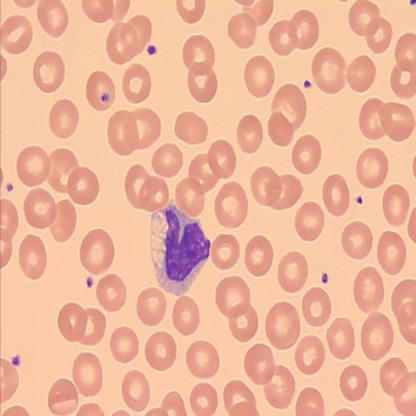Monocyte: (149, 197, 212, 297)
